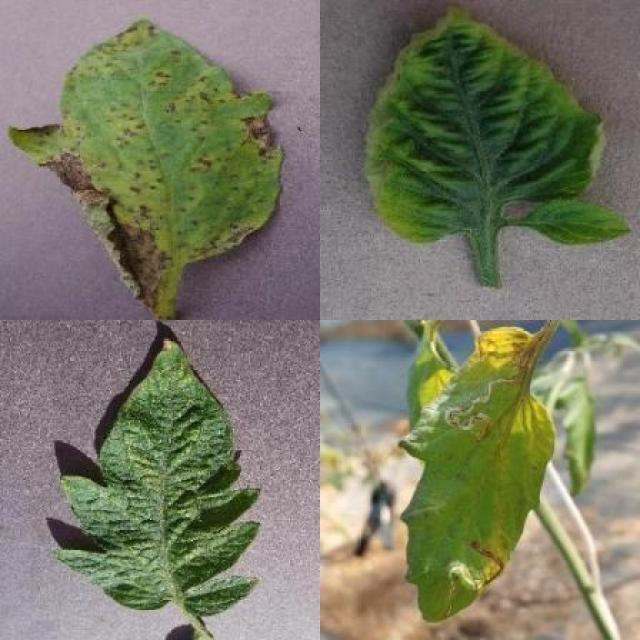Leaf Miner: (397, 322, 563, 624)
Septoria: (10, 17, 283, 320)
Spider Mites: (55, 334, 262, 616)
Yellow Leaf Curl Virus: (365, 4, 632, 245)
